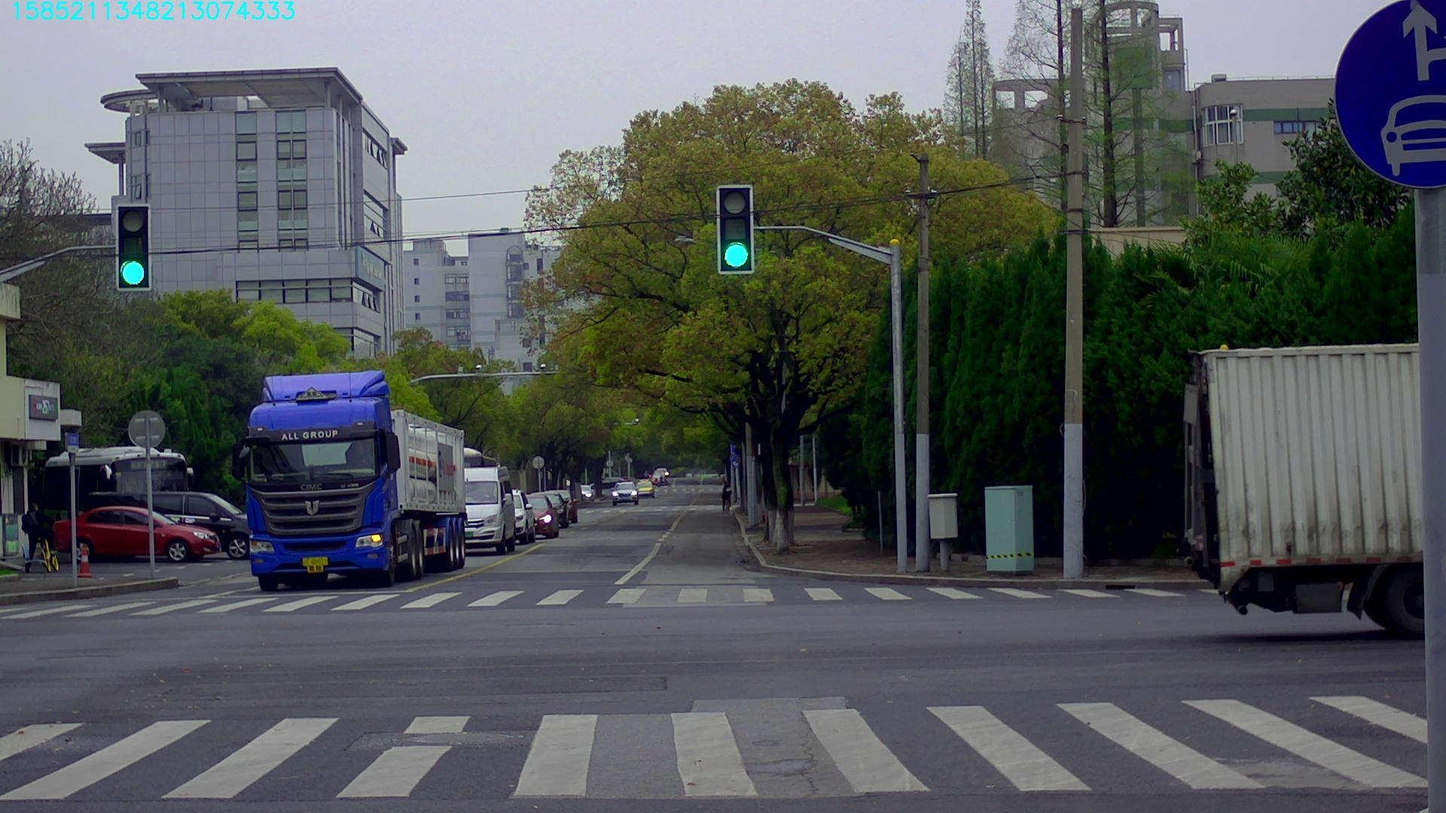green: (718, 187, 752, 271), (117, 205, 148, 288)
